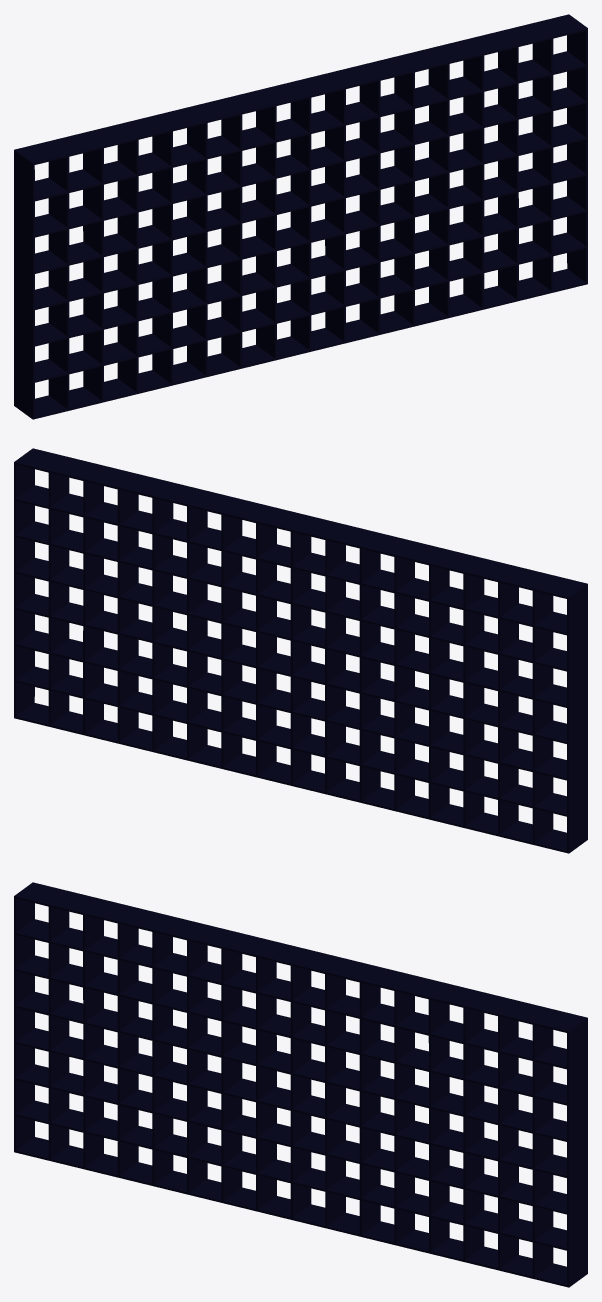
File: Estante.obj
The picture shows the model from 3 angles, top to bottom: view 1: azimuth 30°, elevation 25°; view 2: azimuth 150°, elevation 25°; view 3: azimuth 330°, elevation 25°; orthographic projection.
Parts seen in each view (by area): view 1: Mesh.093_Plane.184_Plane.198, Mesh.102_Plane.213_Plane.227, Mesh.099_Plane.211_Plane.225, Mesh.107_Plane.212_Plane.226, Mesh.110_Plane.214_Plane.228, Mesh.092_Plane.185_Plane.199, Mesh.108_Plane.186_Plane.200, Mesh.089_Plane.183_Plane.197, Mesh.111_Plane.210_Plane.224, Mesh.104_Plane.196_Plane.210, Mesh.096_Plane.206_Plane.220, Mesh.088_Plane.195_Plane.209 (+13 smaller); view 2: Mesh.093_Plane.184_Plane.198, Mesh.102_Plane.213_Plane.227, Mesh.099_Plane.211_Plane.225, Mesh.107_Plane.212_Plane.226, Mesh.110_Plane.214_Plane.228, Mesh.092_Plane.185_Plane.199, Mesh.089_Plane.183_Plane.197, Mesh.108_Plane.186_Plane.200, Mesh.111_Plane.210_Plane.224, Mesh.104_Plane.196_Plane.210, Mesh.096_Plane.206_Plane.220, Mesh.088_Plane.195_Plane.209 (+13 smaller); view 3: Mesh.093_Plane.184_Plane.198, Mesh.108_Plane.186_Plane.200, Mesh.092_Plane.185_Plane.199, Mesh.089_Plane.183_Plane.197, Mesh.099_Plane.211_Plane.225, Mesh.110_Plane.214_Plane.228, Mesh.107_Plane.212_Plane.226, Mesh.102_Plane.213_Plane.227, Mesh.094_Plane.194_Plane.208, Mesh.098_Plane.203_Plane.217, Mesh.105_Plane.198_Plane.212, Mesh.109_Plane.204_Plane.218 (+13 smaller).
Part boxes in pixels (x1,y1,x2,y2): Mesh.093_Plane.184_Plane.198: (14, 14, 587, 165); Mesh.102_Plane.213_Plane.227: (14, 160, 587, 310); Mesh.099_Plane.211_Plane.225: (14, 269, 587, 419); Mesh.107_Plane.212_Plane.226: (14, 232, 587, 382); Mesh.110_Plane.214_Plane.228: (14, 196, 587, 346); Mesh.092_Plane.185_Plane.199: (33, 87, 587, 237); Mesh.108_Plane.186_Plane.200: (33, 124, 587, 274); Mesh.089_Plane.183_Plane.197: (33, 51, 587, 201); Mesh.111_Plane.210_Plane.224: (14, 152, 34, 417); Mesh.104_Plane.196_Plane.210: (463, 55, 484, 307); Mesh.096_Plane.206_Plane.220: (221, 114, 242, 366); Mesh.088_Plane.195_Plane.209: (532, 38, 553, 290); Mesh.093_Plane.184_Plane.198: (14, 448, 587, 599); Mesh.102_Plane.213_Plane.227: (16, 594, 587, 744); Mesh.099_Plane.211_Plane.225: (16, 703, 587, 853); Mesh.107_Plane.212_Plane.226: (16, 666, 587, 816); Mesh.110_Plane.214_Plane.228: (16, 630, 587, 780); Mesh.092_Plane.185_Plane.199: (16, 521, 566, 671); Mesh.089_Plane.183_Plane.197: (16, 485, 566, 635); Mesh.108_Plane.186_Plane.200: (16, 558, 566, 707); Mesh.111_Plane.210_Plane.224: (567, 586, 587, 853); Mesh.104_Plane.196_Plane.210: (117, 487, 138, 743); Mesh.096_Plane.206_Plane.220: (359, 546, 380, 802); Mesh.088_Plane.195_Plane.209: (48, 470, 69, 726); Mesh.093_Plane.184_Plane.198: (14, 882, 587, 1033); Mesh.108_Plane.186_Plane.200: (14, 992, 587, 1142); Mesh.092_Plane.185_Plane.199: (14, 955, 587, 1105); Mesh.089_Plane.183_Plane.197: (14, 919, 587, 1069); Mesh.099_Plane.211_Plane.225: (14, 1137, 568, 1287); Mesh.110_Plane.214_Plane.228: (14, 1064, 568, 1214); Mesh.107_Plane.212_Plane.226: (14, 1100, 568, 1250); Mesh.102_Plane.213_Plane.227: (14, 1028, 568, 1178); Mesh.094_Plane.194_Plane.208: (567, 1020, 587, 1287); Mesh.098_Plane.203_Plane.217: (117, 923, 138, 1175); Mesh.105_Plane.198_Plane.212: (359, 982, 380, 1234); Mesh.109_Plane.204_Plane.218: (48, 906, 69, 1158).
Bounding box in the file's own units: 9.53 × 4.2 × 0.5616.
